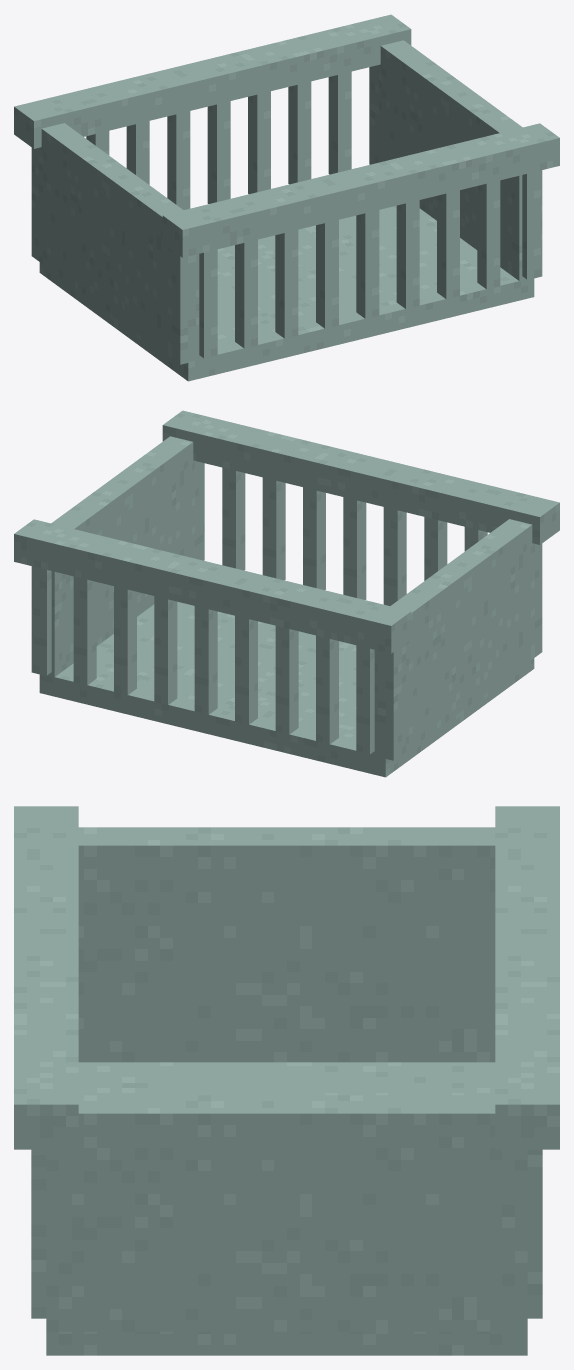
Rendered from basket_laundry.glb.
The picture shows the model from 3 angles, top to bottom: view 1: azimuth 30°, elevation 25°; view 2: azimuth 150°, elevation 25°; view 3: azimuth 270°, elevation 25°; orthographic projection. The views are drawn at different scales.
Parts seen in each view (by area): view 1: block_end wall (×2), block_top rail (×2), block_vent rib (×15), block_flat bottom; view 2: block_end wall (×2), block_top rail (×2), block_vent rib (×15), block_flat bottom; view 3: block_end wall (×2), block_top rail (×2), block_flat bottom, block_vent rib (×2).
Part boxes in pixels (bbox=[...]): block_end wall (×2): bbox=[31, 40, 542, 364]; block_top rail (×2): bbox=[14, 14, 559, 257]; block_vent rib (×15): bbox=[126, 71, 540, 358]; block_flat bottom: bbox=[39, 205, 534, 381]; block_end wall (×2): bbox=[31, 436, 542, 760]; block_top rail (×2): bbox=[14, 410, 559, 653]; block_vent rib (×15): bbox=[33, 467, 447, 754]; block_flat bottom: bbox=[39, 601, 534, 777]; block_end wall (×2): bbox=[46, 827, 527, 1331]; block_top rail (×2): bbox=[14, 806, 559, 1149]; block_flat bottom: bbox=[46, 1062, 527, 1355]; block_vent rib (×2): bbox=[31, 1149, 542, 1318].
Size of the model in its own units: 0.704 by 0.2899 by 0.5449.
1 material, 1 textured.
